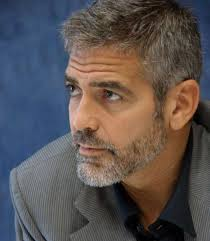b.y: (74, 129, 114, 185)
